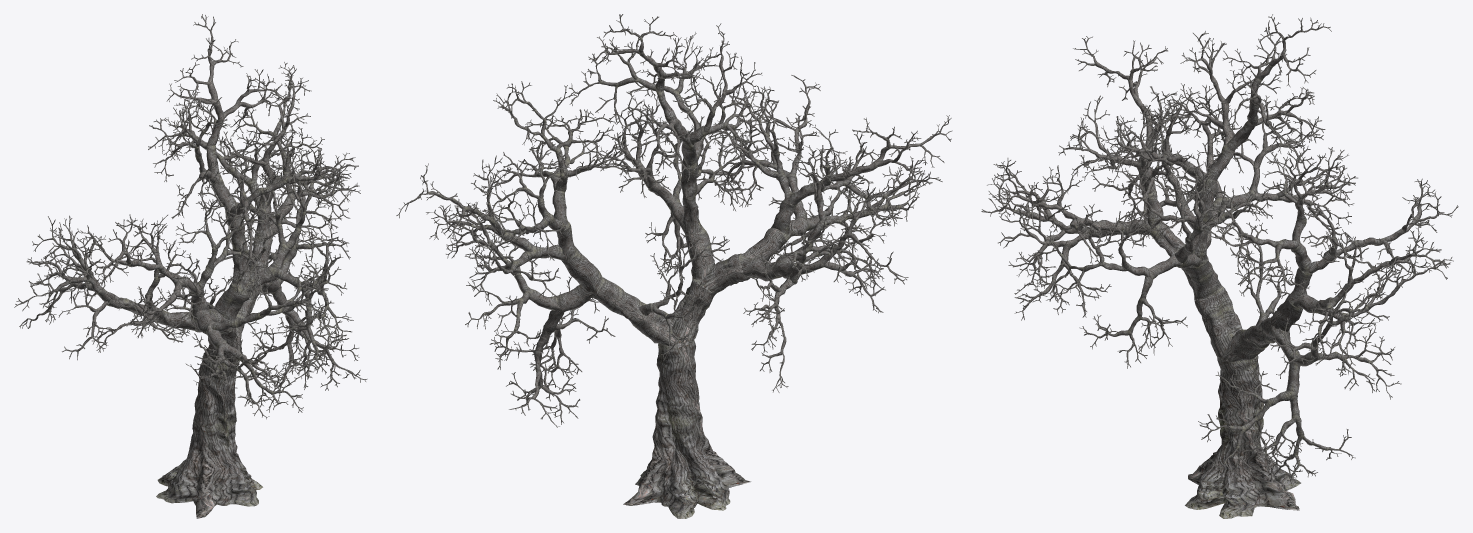
File: tilleul-2.glb
3 views of the same model, side by side, from view 1: azimuth 30°, elevation 25°; view 2: azimuth 150°, elevation 25°; view 3: azimuth 270°, elevation 25° (orthographic). The views are drawn at different scales.
Parts seen in each view (by area): view 1: Object_2, Object_3; view 2: Object_2, Object_3; view 3: Object_2, Object_3.
Part boxes in pixels (x1,y1,x2,y2): Object_2: (14,14,367,518); Object_3: (17,25,364,417); Object_2: (396,14,952,518); Object_3: (414,21,945,427); Object_2: (987,14,1458,518); Object_3: (981,21,1452,483).
Size of the model in its own units: 10.59 by 11.86 by 10.4.
Materials: 1 (1 with a texture image).
